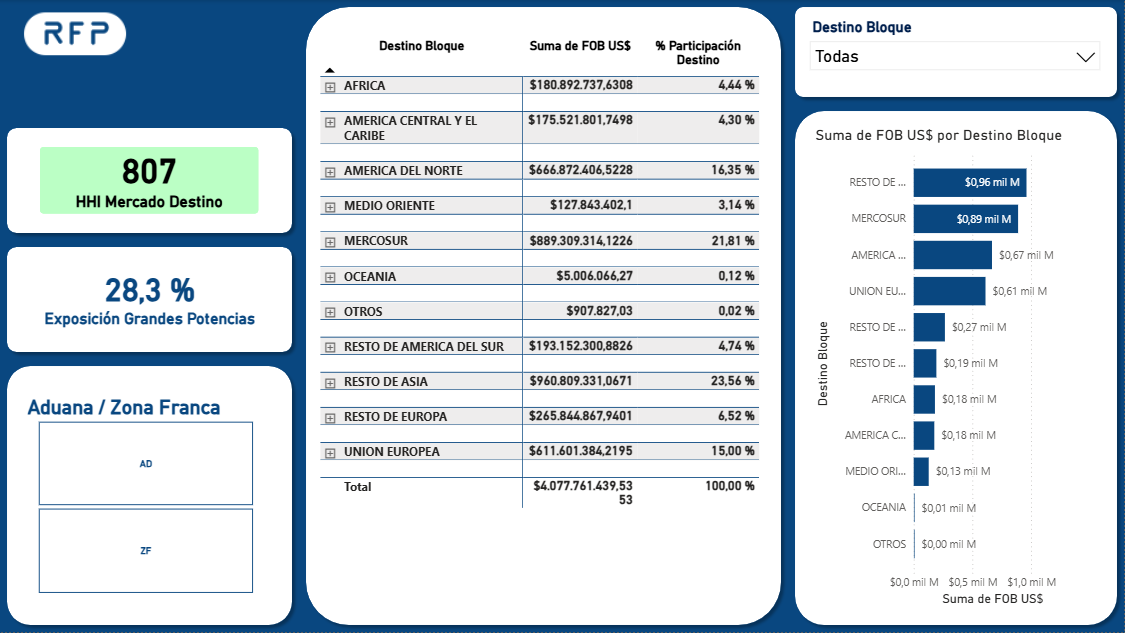

What the dashboard file says about the page in this screenshot:
{"tool":"powerbi","page":{"name":"Enfoque Geopolítico","canvas":[1280,720],"ordinal":1},"visuals":[{"type":"shape","box":[340.6,0,557.1,720],"z":0},{"type":"shape","box":[897.7,0,382.8,118.5],"z":1000},{"type":"shape","box":[897.7,118.5,382.8,563.9],"z":2000},{"type":"shape","box":[0,273.4,340.6,135.6],"z":3000},{"type":"shape","box":[0,409,340.6,311],"z":4000},{"type":"shape","box":[0,137.8,340.6,135.6],"z":5000},{"type":"cardVisual","fields":{"Data":["_Medidas.HHI Mercado Destino"]},"box":[28.5,150.4,283.7,110.5],"z":6000},{"type":"cardVisual","fields":{"Data":["_Medidas.Exposición Grandes Potencias"]},"box":[18.2,288.2,305.3,105.9],"z":7000},{"type":"slicer","fields":{"Values":["UyXXI.AD/ZF"]},"box":[18.2,445.4,293.9,237],"z":8000},{"type":"pivotTable","fields":{"Rows":["UyXXI.Destino Bloque","UyXXI.Destino"],"Values":["Sum(UyXXI.FOB US$)","_Medidas.% Participación Destino"]},"box":[360,37.6,516.1,644.8],"z":9000},{"type":"clusteredBarChart","fields":{"Category":["UyXXI.Destino Bloque"],"Y":["Sum(UyXXI.FOB US$)"]},"box":[923.9,143.5,330.4,501.3],"z":10000},{"type":"slicer","fields":{"Values":["UyXXI.Destino Bloque "]},"box":[912.5,15.9,350.9,87.7],"z":11000},{"type":"image","box":[0,0,170.9,77.5],"z":12000},{"type":"textbox","box":[986,690,294.4,30],"z":13000}]}

Visuals, with their boxes in screenshot pixels (x1, y1, x2, y2), scaled from the page's 1280x720 canvas onto the 1125x633 screenshot:
shape: box(299, 0, 789, 632)
shape: box(789, 0, 1124, 104)
shape: box(789, 104, 1124, 600)
shape: box(0, 240, 299, 360)
shape: box(0, 360, 299, 632)
shape: box(0, 121, 299, 240)
cardVisual - _Medidas.HHI Mercado Destino: box(25, 132, 274, 229)
cardVisual - _Medidas.Exposición Grandes Potencias: box(16, 253, 284, 346)
slicer - UyXXI.AD/ZF: box(16, 392, 274, 600)
pivotTable - UyXXI.Destino Bloque x UyXXI.Destino: box(316, 33, 770, 600)
clusteredBarChart - UyXXI.Destino Bloque x Sum(UyXXI.FOB US$): box(812, 126, 1102, 567)
slicer - UyXXI.Destino Bloque : box(802, 14, 1110, 91)
image: box(0, 0, 150, 68)
textbox: box(867, 607, 1124, 632)
